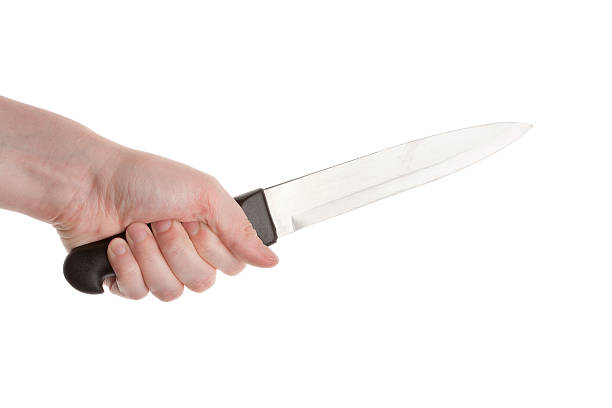knife: (62, 120, 536, 295)
